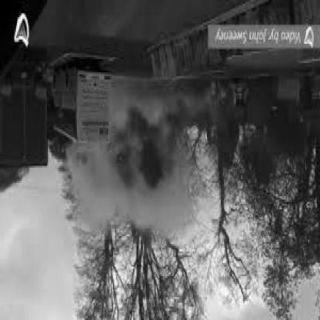Smoke: (64, 78, 206, 244)
